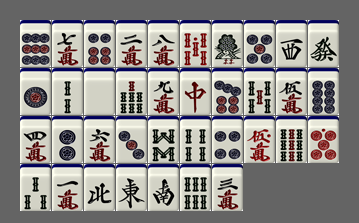0m: (244, 116, 275, 163)
0p: (308, 116, 339, 163)
0s: (180, 20, 211, 67)
1m: (52, 164, 83, 211)
1p: (20, 68, 51, 115)
1s: (212, 20, 243, 67)
1z: (116, 164, 147, 211)
2m: (116, 20, 147, 67)
2p: (52, 116, 83, 163)
2s: (52, 68, 83, 115)
2z: (148, 164, 179, 211)
3m: (212, 164, 243, 211)
3p: (116, 116, 147, 163)
3s: (20, 164, 51, 211)
3z: (276, 20, 307, 67)
4m: (20, 116, 51, 163)
4p: (212, 116, 243, 163)
4s: (180, 116, 211, 163)
4z: (84, 164, 115, 211)
5m: (276, 68, 307, 115)
5p: (244, 20, 275, 67)
5s: (244, 68, 275, 115)
5z: (84, 68, 115, 115)
6m: (84, 116, 115, 163)
6p: (84, 20, 115, 67)
6s: (180, 164, 211, 211)
6z: (308, 20, 339, 67)
7m: (52, 20, 83, 67)
7p: (212, 68, 243, 115)
7s: (116, 68, 147, 115)
7z: (180, 68, 211, 115)
8m: (148, 20, 179, 67)
8p: (308, 68, 339, 115)
8s: (148, 116, 179, 163)
9m: (148, 68, 179, 115)
9p: (20, 20, 51, 67)
9s: (276, 116, 307, 163)
